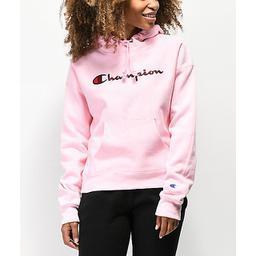sweater: (56, 25, 198, 226)
